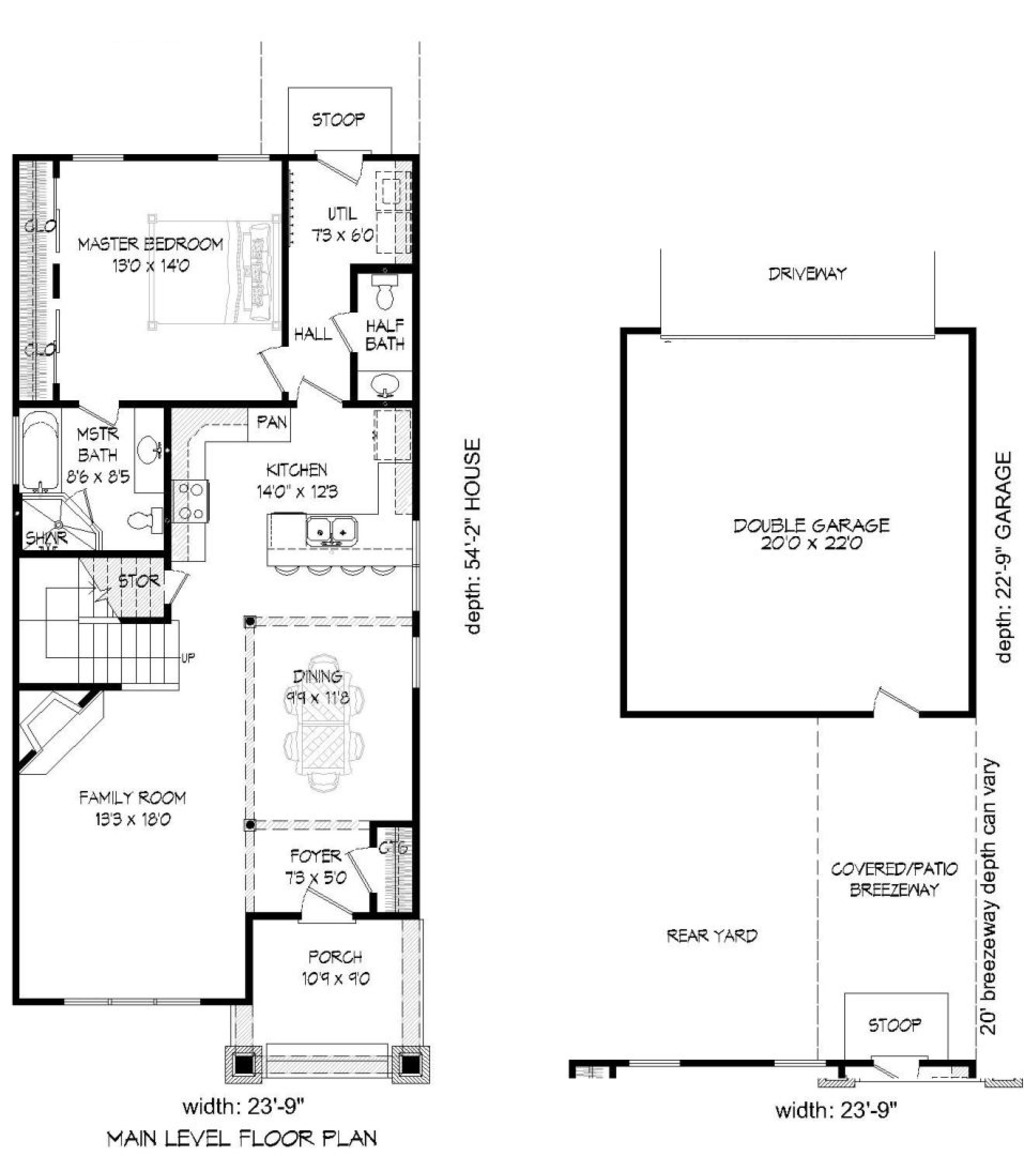bed: (139, 210, 283, 336)
dining_table: (281, 634, 368, 796)
door: (342, 838, 390, 898), (861, 683, 931, 723), (313, 146, 377, 186), (70, 394, 127, 436), (287, 377, 349, 412), (868, 1049, 925, 1085), (257, 336, 287, 400), (325, 305, 362, 356), (159, 565, 194, 609)
kitchen_bar: (257, 493, 411, 590)
large_sink: (365, 273, 407, 323), (120, 508, 167, 533)
small_sink: (131, 416, 163, 481), (352, 371, 412, 404)
stairs: (14, 551, 178, 688), (21, 552, 184, 688)
tub: (17, 399, 69, 497)
twin_sink: (296, 513, 368, 547)
window: (394, 506, 437, 619), (58, 991, 211, 1012), (402, 629, 434, 700), (61, 142, 130, 172), (625, 1046, 683, 1073), (761, 1054, 833, 1074), (215, 147, 275, 168)
